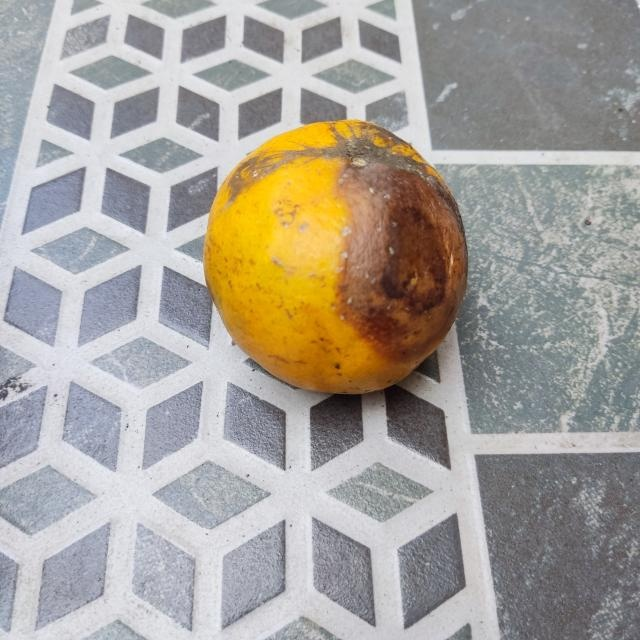agrume: (200, 120, 470, 393)
